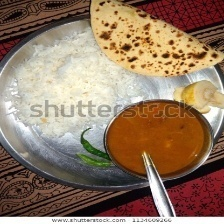rice: (9, 47, 128, 139)
